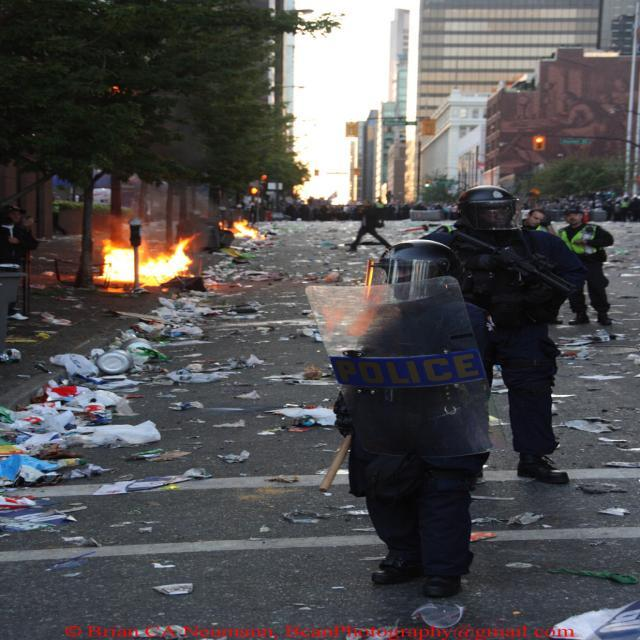Fire: (99, 238, 194, 288), (230, 216, 260, 243)
